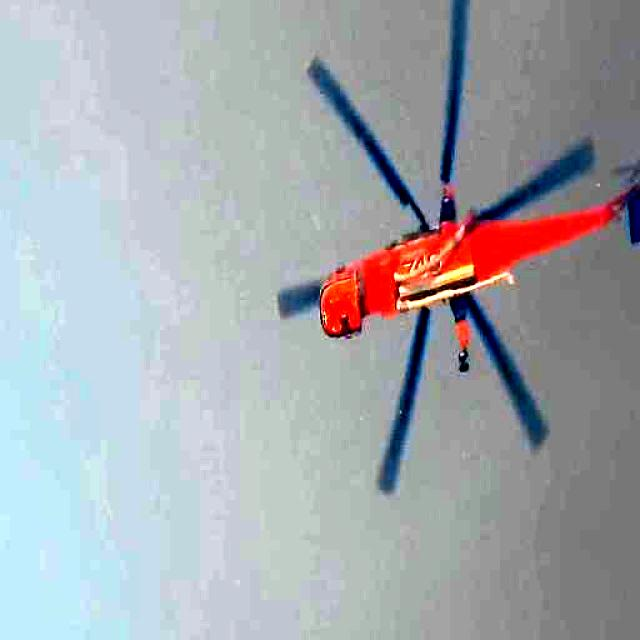drone: (268, 0, 640, 496)
